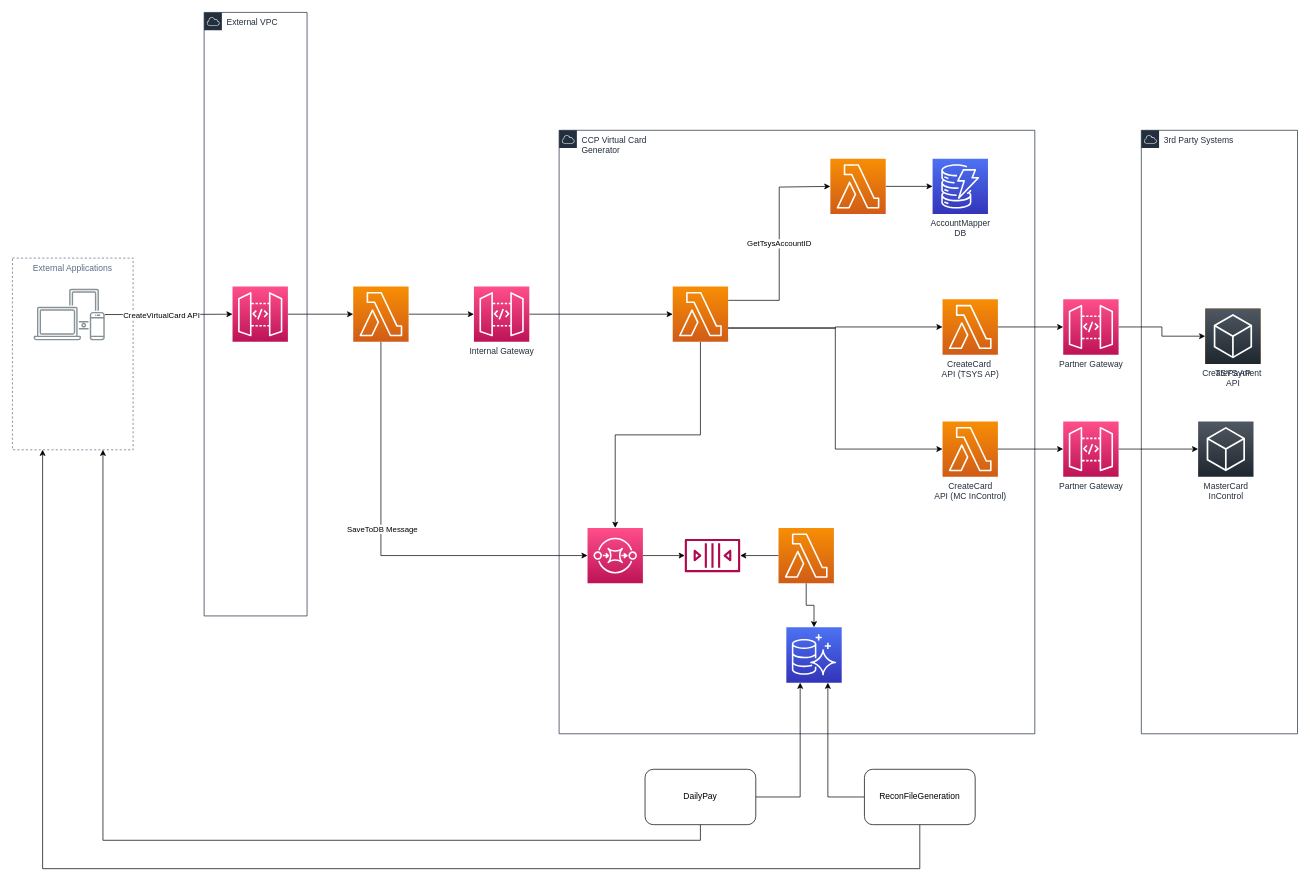
Image size: 1310x887. Some labels were removed from this diagram. The centre of each missing label's shape, as x and y in pixels:
"External Gateway" goes at (x=260, y=314).
"ExternalVC API" goes at (x=381, y=314).
"Hopper App" goes at (x=68, y=314).
"ICCEDB (Aurora)" goes at (x=814, y=655).
"SaveToDB API" goes at (x=806, y=555).
"SaveToDB Queue" goes at (x=615, y=555).
"TsysAccountMapper API" goes at (x=858, y=186).
"VirutalCardOrchestrator API" goes at (x=700, y=314).
